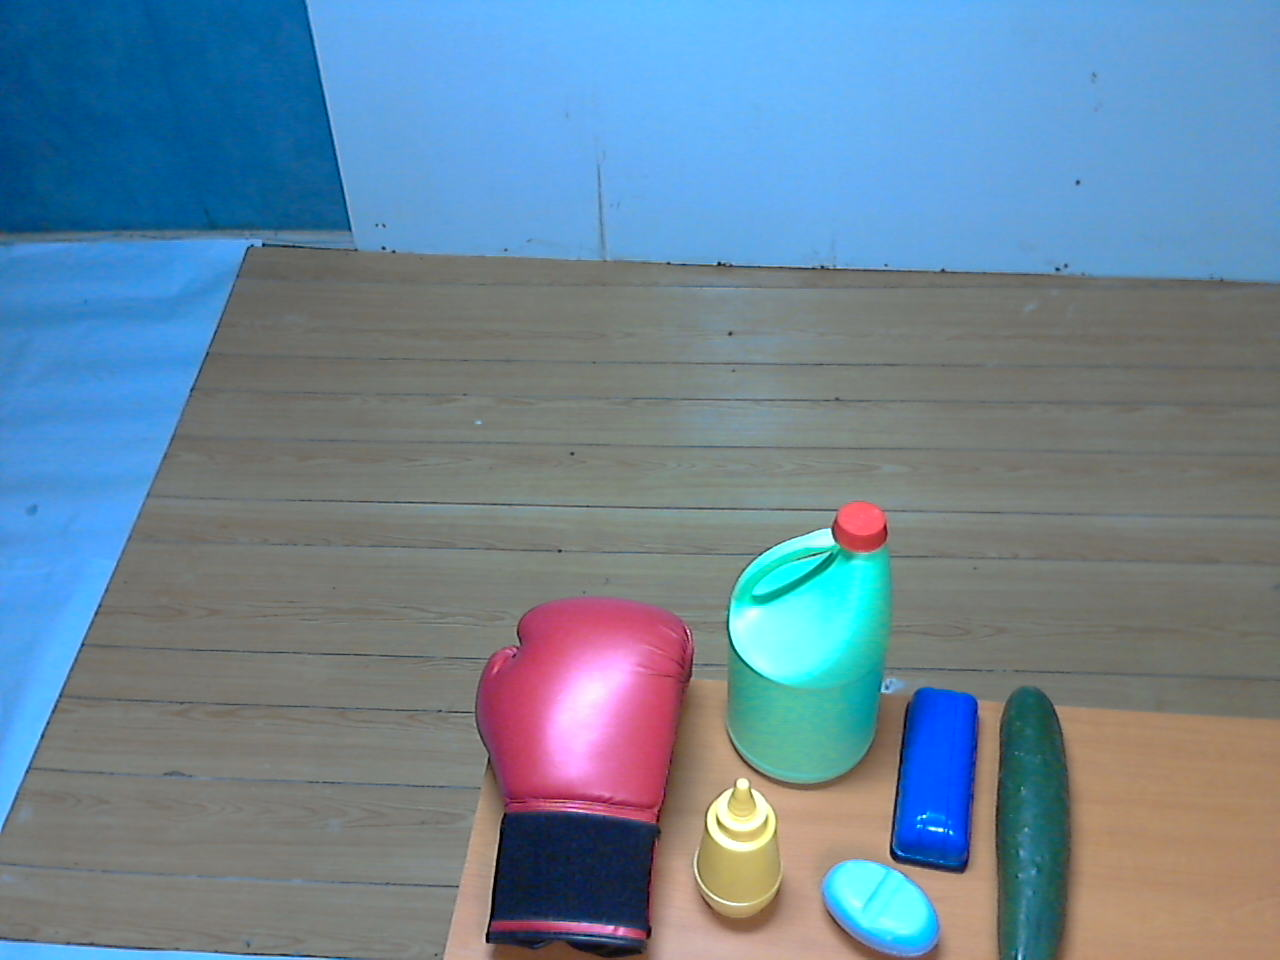borrador: (880, 679, 986, 882)
cloroplano: (717, 500, 905, 794)
guante: (452, 585, 699, 960)
jabon: (817, 854, 946, 960)
mostaza: (685, 775, 792, 938)
pepino: (985, 672, 1089, 960)
